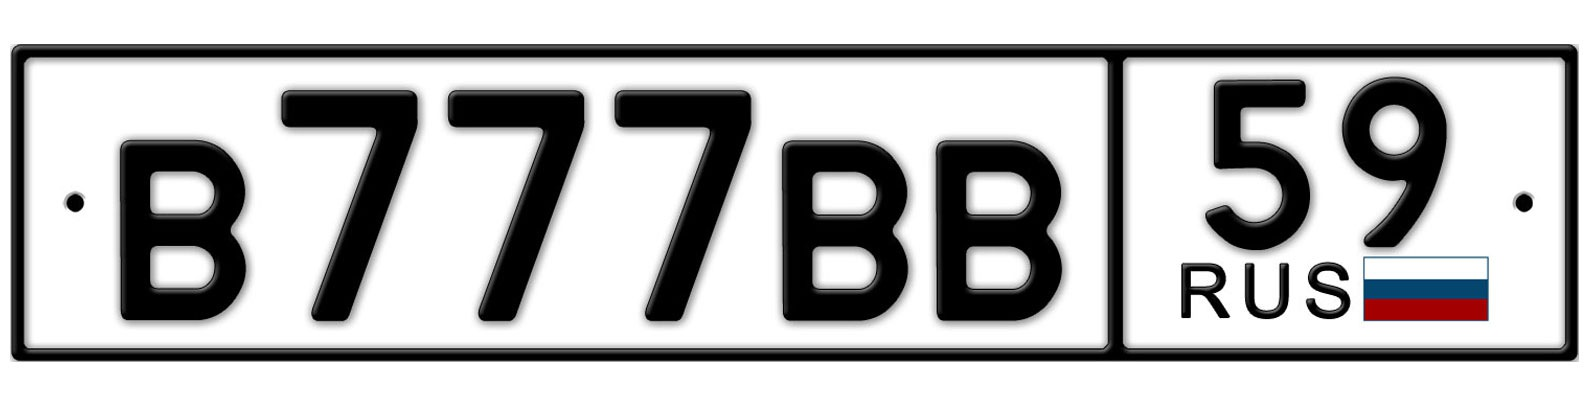number_plate: (6, 49, 1577, 351)
